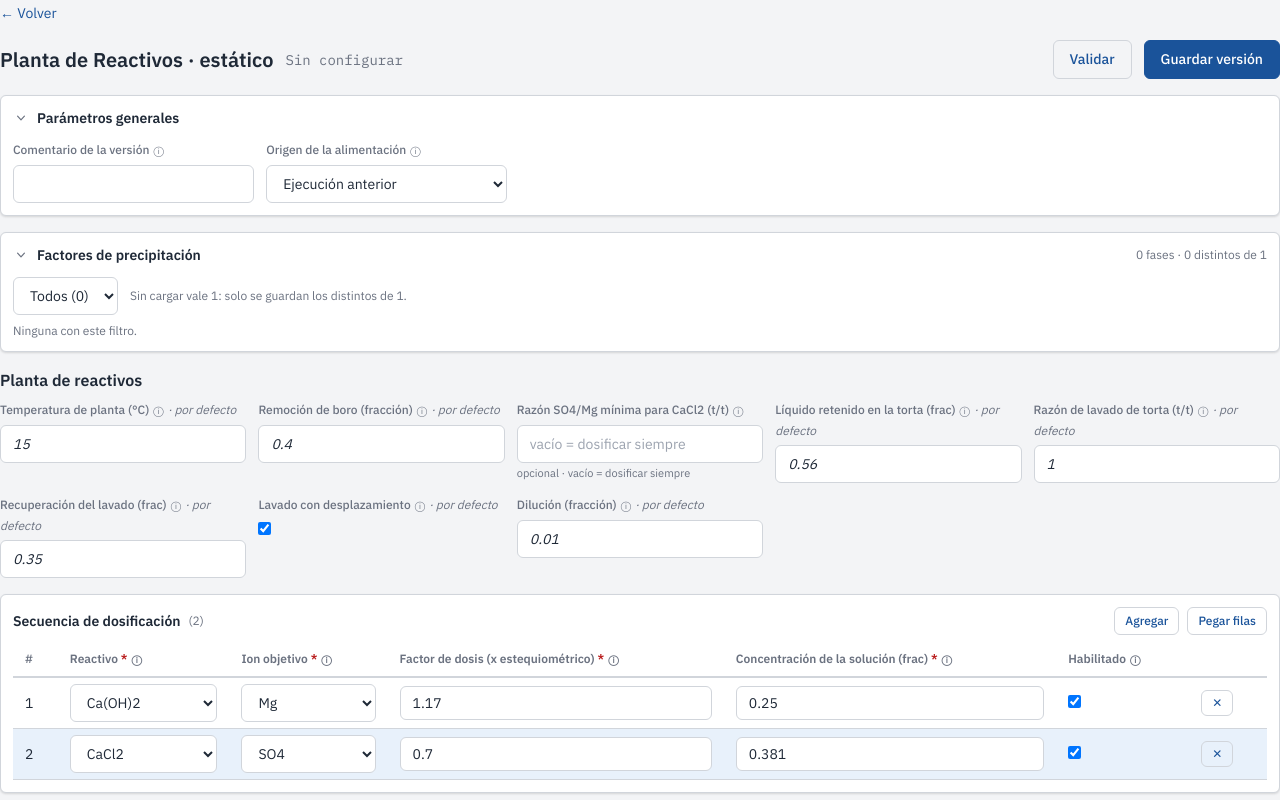
fichas de reactivos (punto 8) › los problemas del backend van en su reactivo: errores en rojo, avisos en ámbar
Click the button "Validar": (1092, 60) [1052, 40, 1132, 79]
(page scrolled)
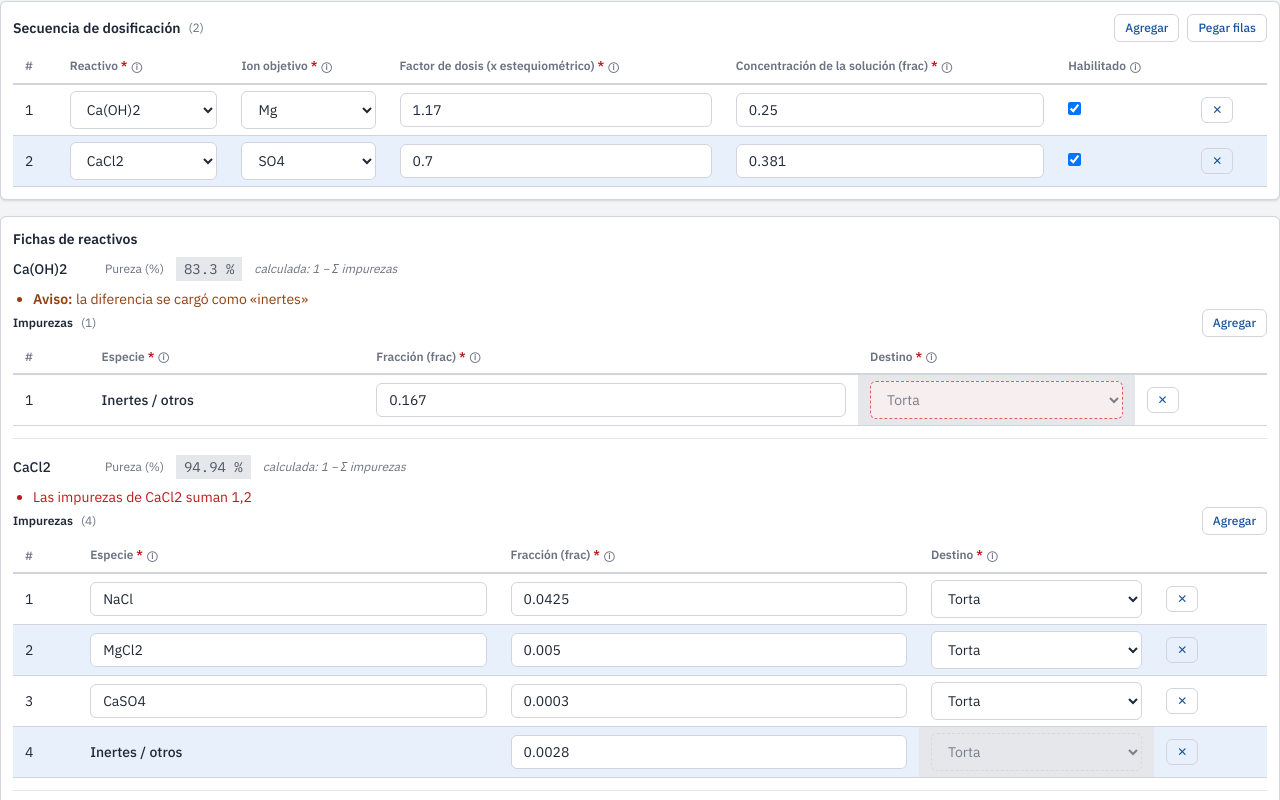
Now the list item "la diferencia se cargó como «inertes»" shows "Aviso:", box [33, 290, 308, 308]
